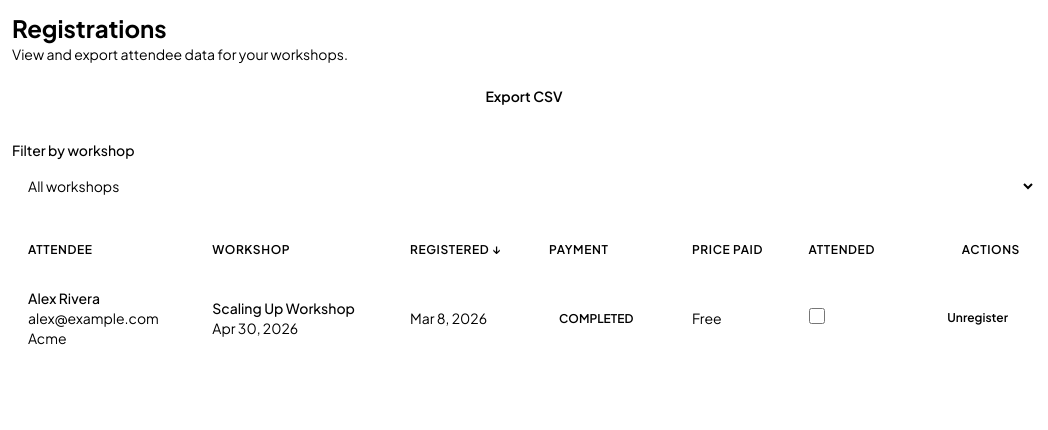
Test: RegistrationsClient › routes paid removals through admin review instead of direct delete
This screenshot has width=1048, height=430.
Click the button "Unregister" at (978, 318), box [935,302,1020,334]
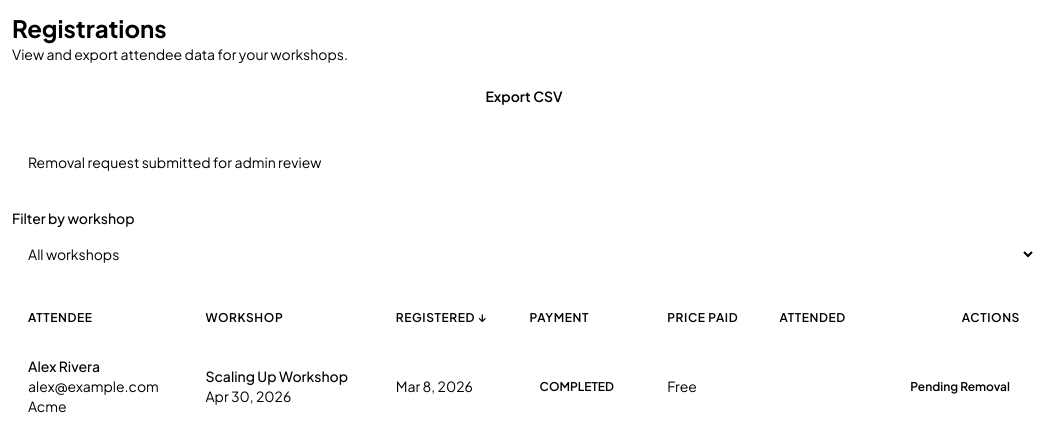
Check: the text "Pending Removal" is shown, box [910,379,1010,394]
Check: the text "Removal request submitted for admin review" is shown, box [28,153,322,171]
